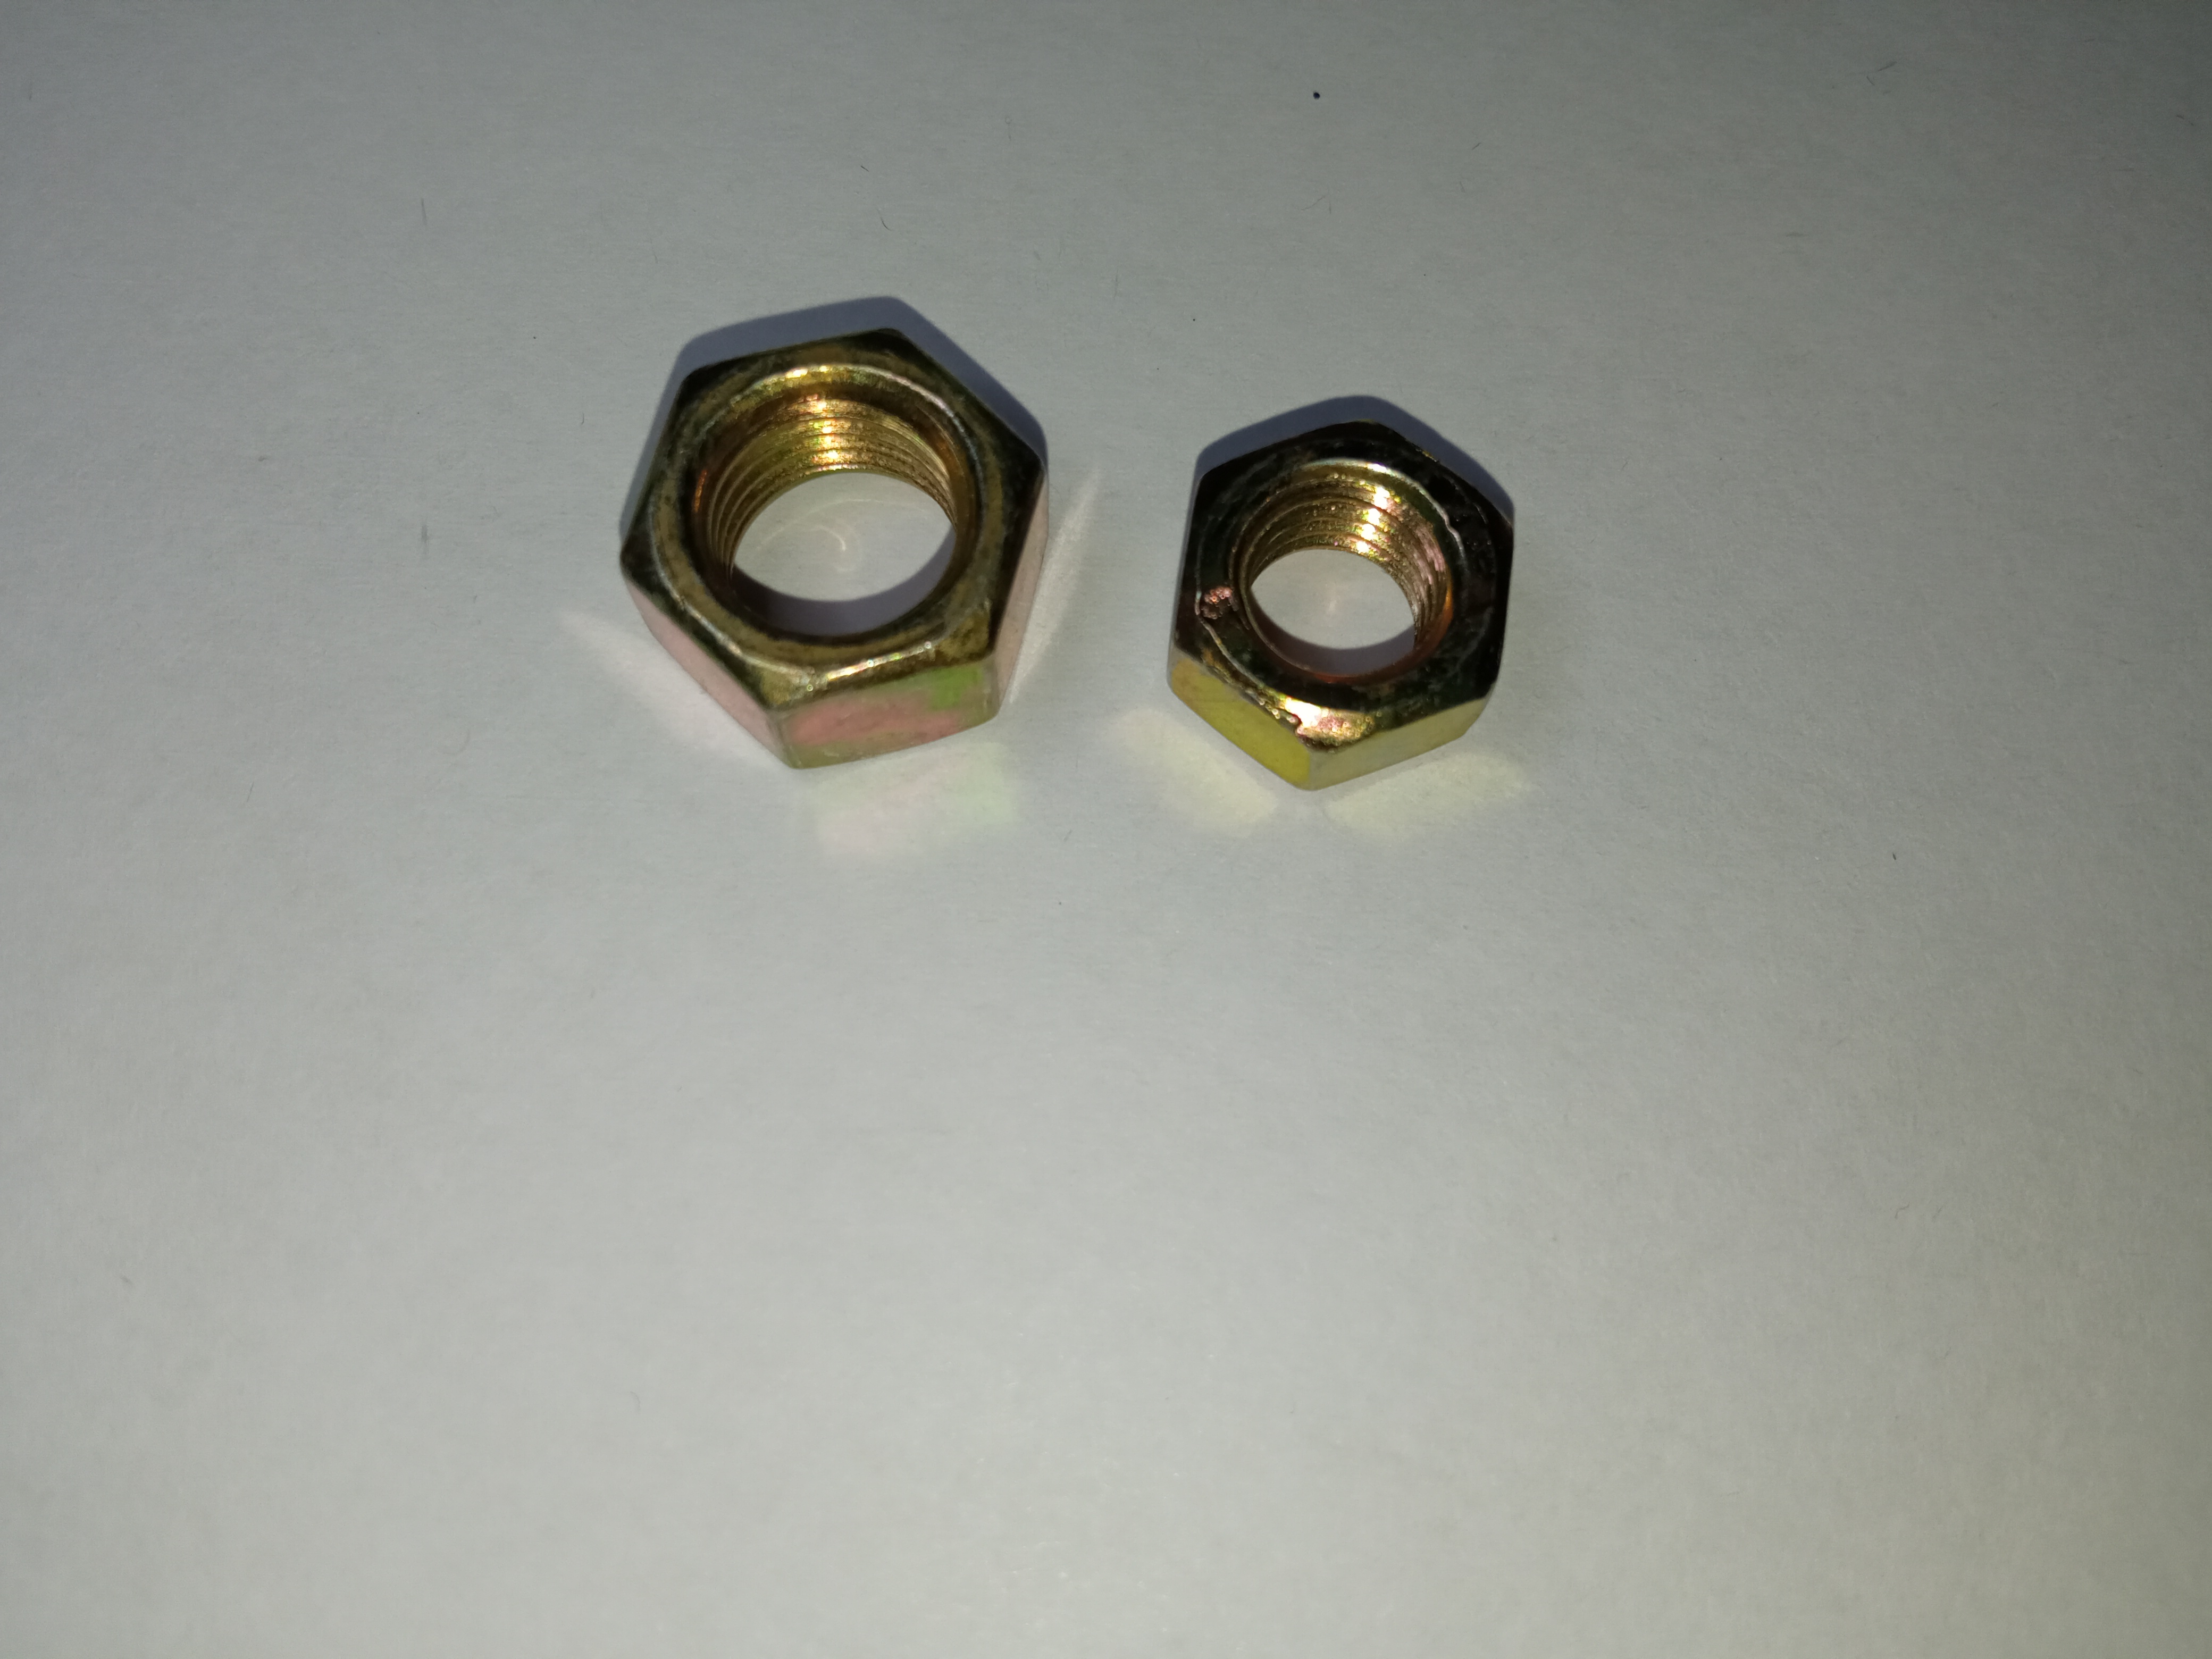m10: (632, 333, 1029, 741)
m8: (1179, 434, 1505, 741)
